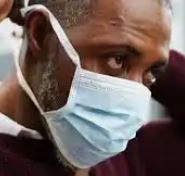with_facemask: (81, 72, 154, 167)
